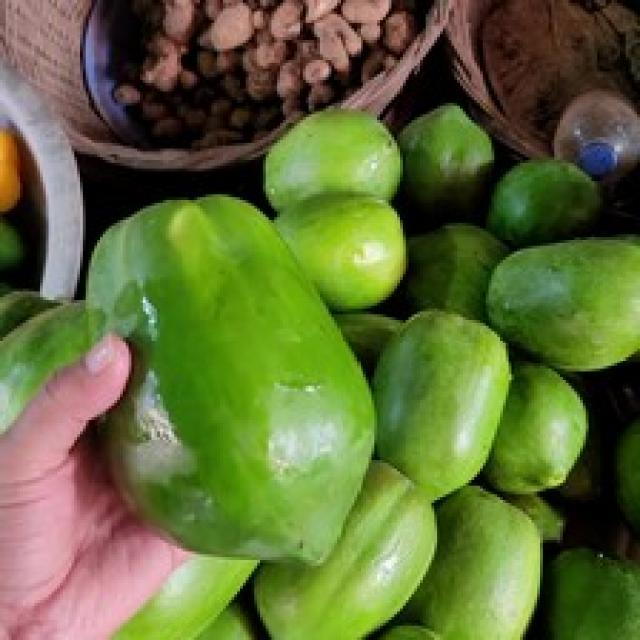Pepaya unrippen: (72, 188, 367, 565), (376, 318, 497, 498), (497, 238, 640, 365), (255, 105, 397, 200)
